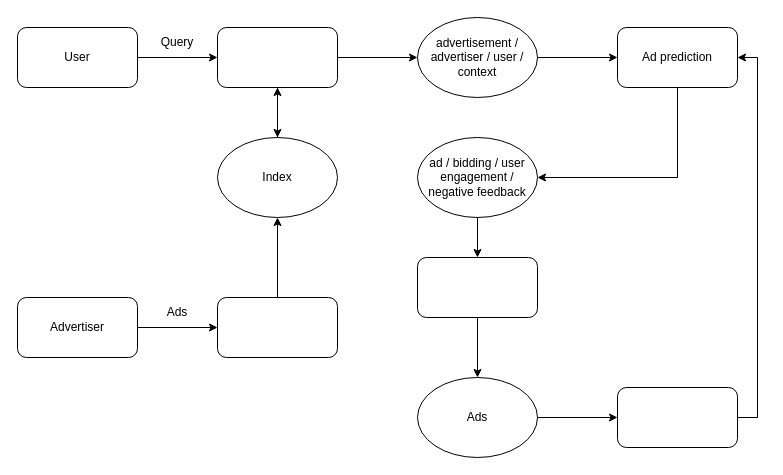
Image size: 783x475. Some labels were removed from this diagram. Here are the shapes that lost their labels. From the top down, the centre of each, then its label:
At [277,57]: "Ad selection".
At [477,287]: "Auction".
At [277,327]: "DB".
At [677,417]: "Training data generation".
